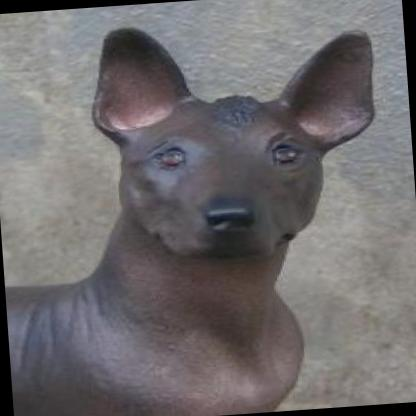Mexican_hairless: (0, 7, 392, 416)
